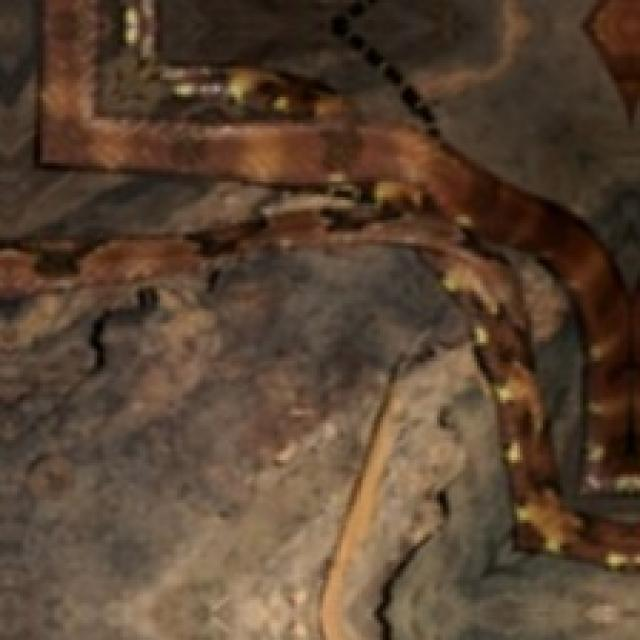dog-toothed cat snake: (42, 0, 640, 564), (0, 234, 226, 297), (585, 0, 640, 113)
